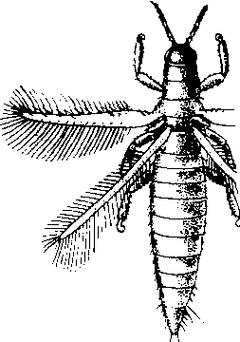Phlaeothripidae: (3, 1, 240, 341)
